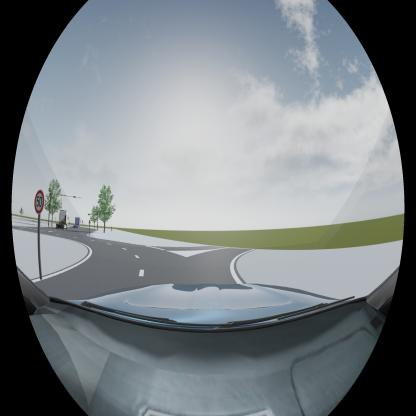Speed Limit 50: (34, 189, 44, 214)
